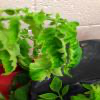Tomato leaf yellow virus: (40, 24, 68, 71), (67, 12, 89, 69), (7, 15, 24, 47), (50, 77, 63, 93)
